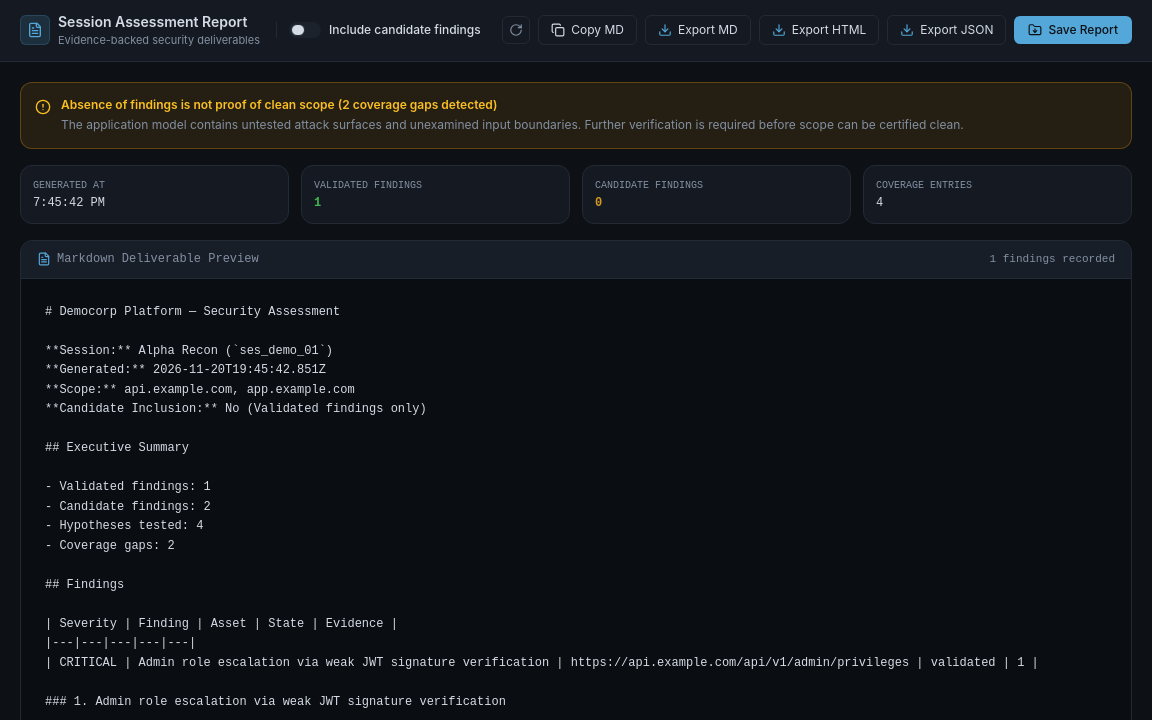
Test: Hypotheses & Reports (Milestone 6) UI Tests › Reports Tab & Page › saves report and returns artifact path with copy button
Click Save Report
Click the button "Save Report".
click(1073, 30)  # box [1014,16,1132,44]
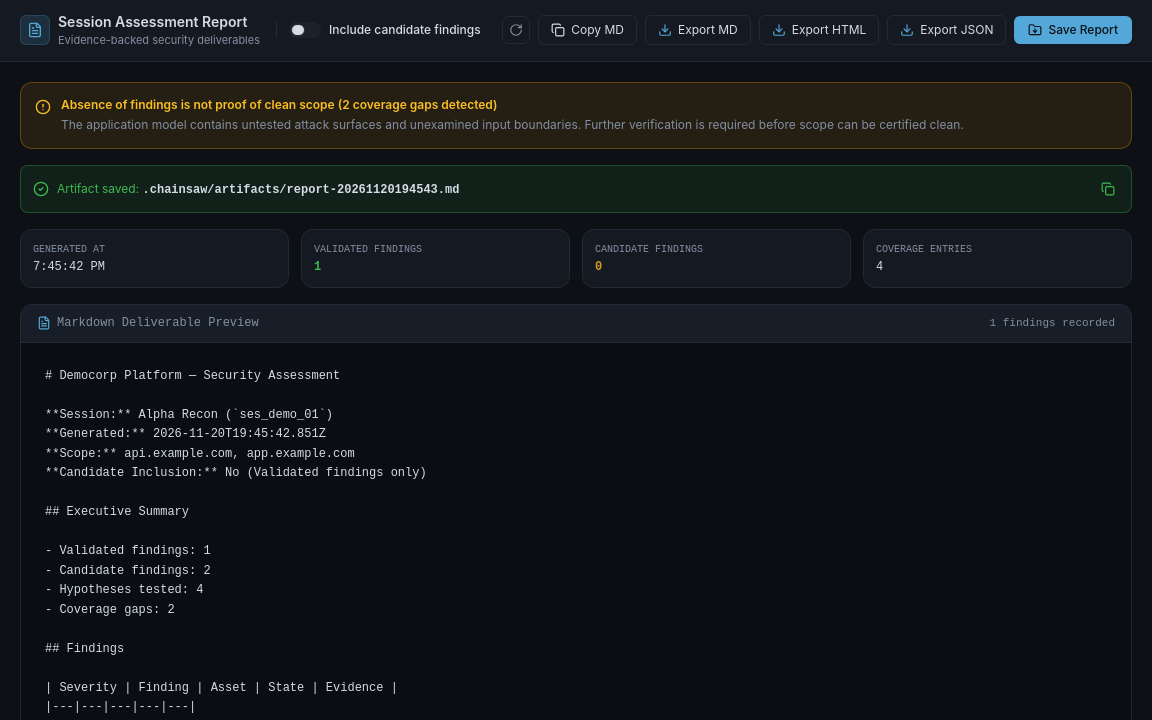
Expected: the text "Artifact saved: .chainsaw/artifacts/report-20261120194543.md" is shown, [57,180,459,198]
Expected: the text ".chainsaw/artifacts/report-20261120194543.md" is shown, [142,182,459,196]
